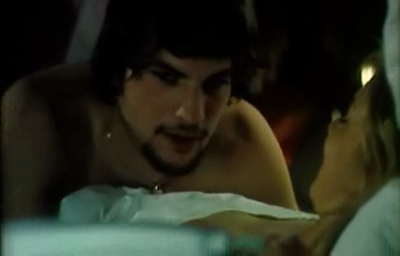cu: (1, 1, 400, 256)
face: (126, 51, 232, 177), (308, 82, 365, 203)
person: (55, 40, 400, 256), (1, 1, 300, 227)
